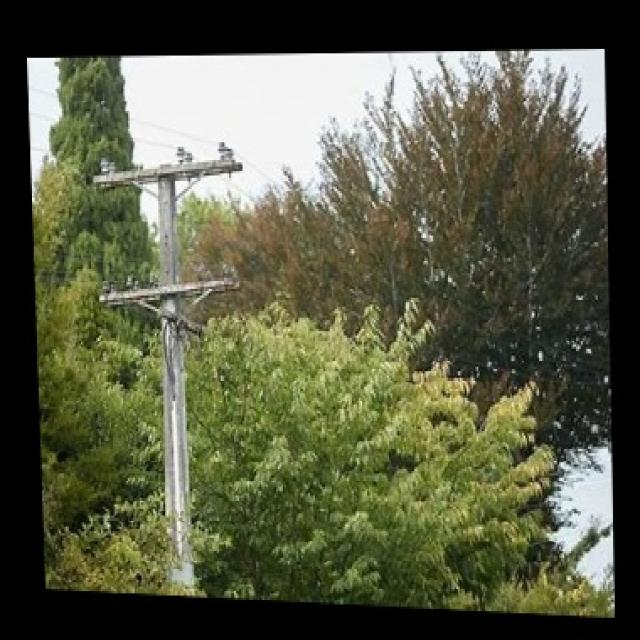utility poles: (79, 147, 281, 583)
